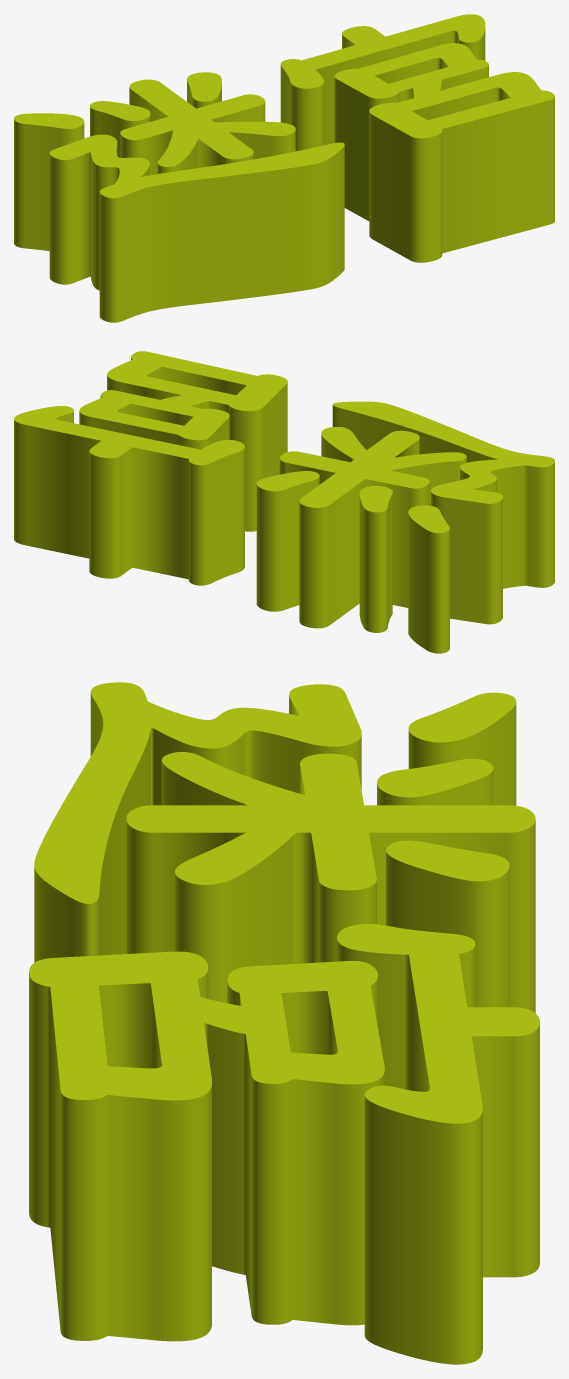
File: labyrinth.fbx
The picture shows the model from 3 angles, top to bottom: view 1: azimuth 30°, elevation 25°; view 2: azimuth 150°, elevation 25°; view 3: azimuth 270°, elevation 25°; orthographic projection. The views are drawn at different scales.
Visible parts, largest first — view 1: テキスト; view 2: テキスト; view 3: テキスト.
Part boxes in pixels (left/top/right/bottom): テキスト: left=14, top=14, right=554, bottom=322; テキスト: left=14, top=351, right=554, bottom=653; テキスト: left=29, top=682, right=539, bottom=1364.
Size of the model in its own units: 0.1571 by 0.04 by 0.0769.
